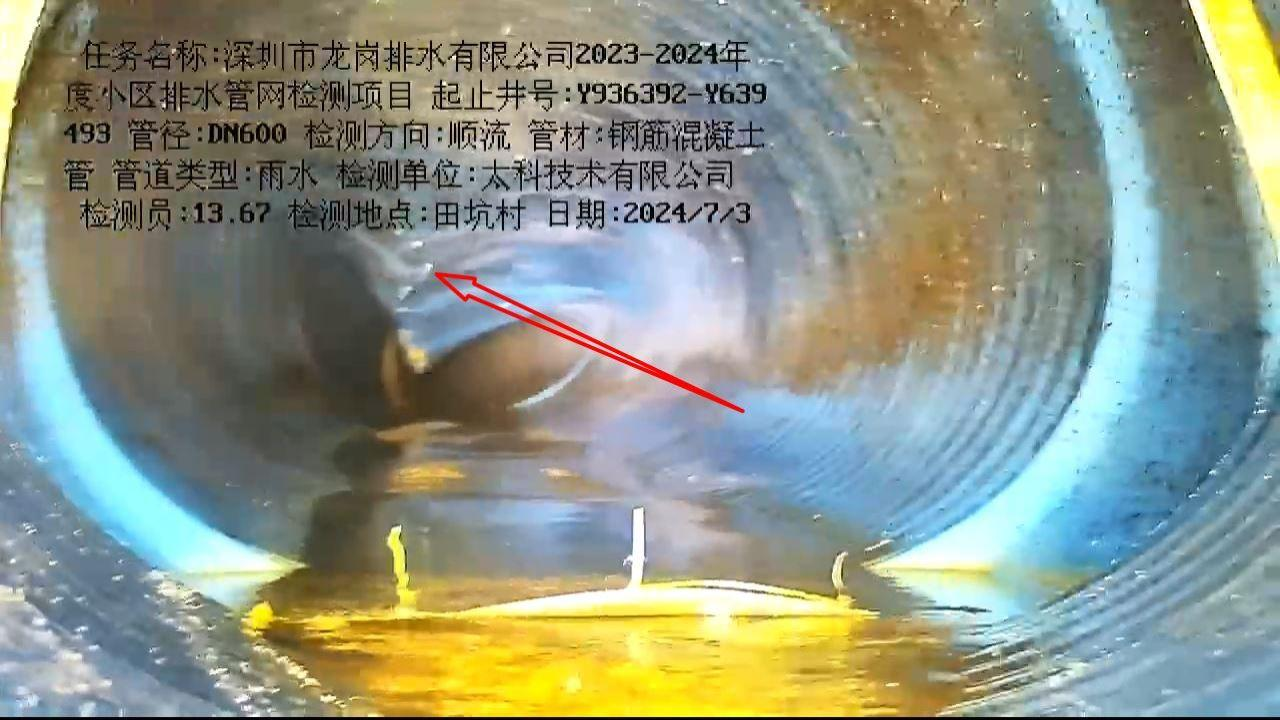BX: (263, 151, 614, 381)
